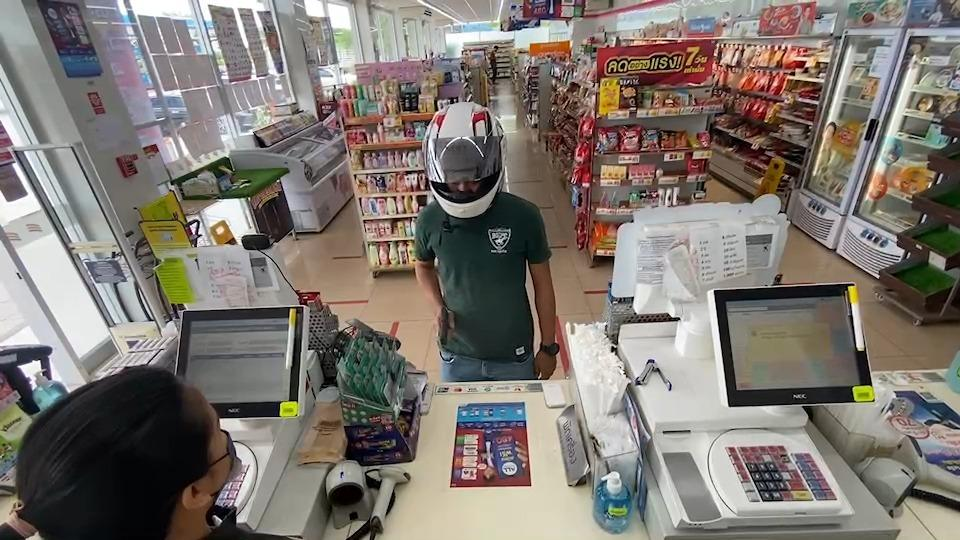criminal: (410, 99, 562, 381)
weapon: (434, 304, 457, 348)
